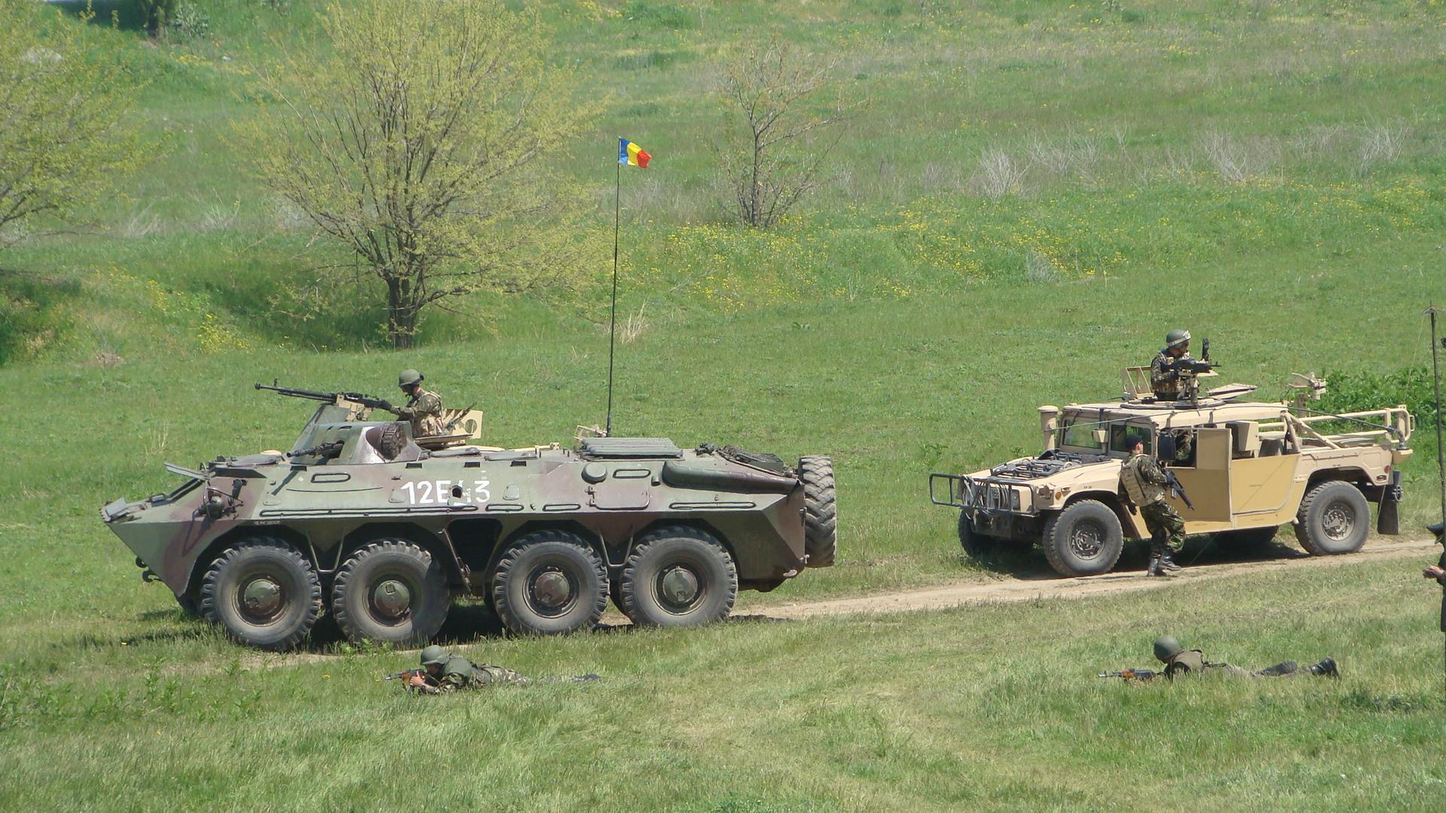armored_car: (928, 358, 1417, 580)
person: (1114, 434, 1196, 572), (406, 644, 603, 698), (1151, 633, 1344, 684), (381, 364, 456, 431), (1421, 519, 1446, 635)
tank: (102, 374, 840, 654)
